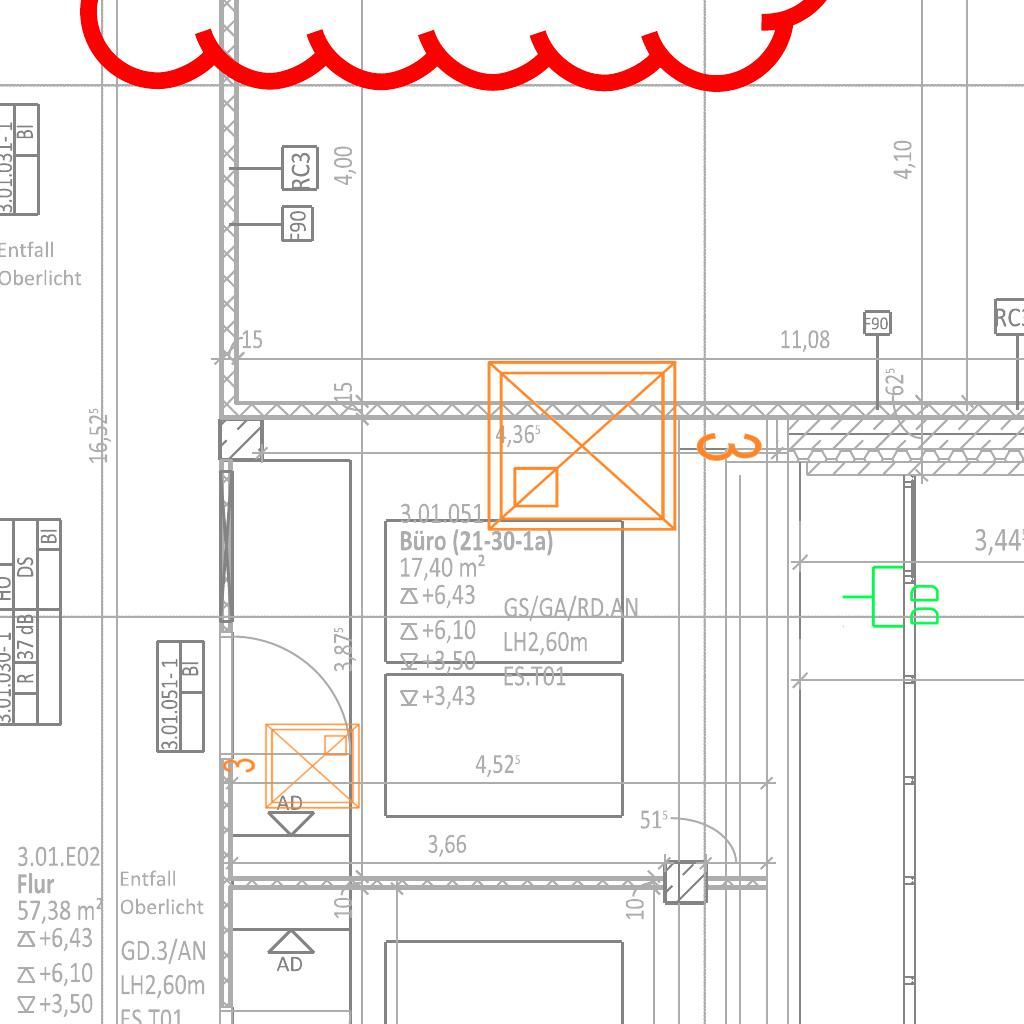Datenanschluss_zweifach: (840, 563, 943, 632)
Einbaudownlights_LED_Konferenzraeume: (473, 338, 773, 546), (217, 716, 367, 820)
